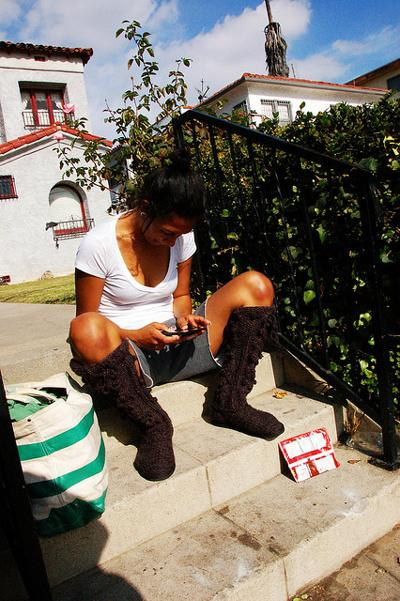person: (69, 146, 284, 485)
